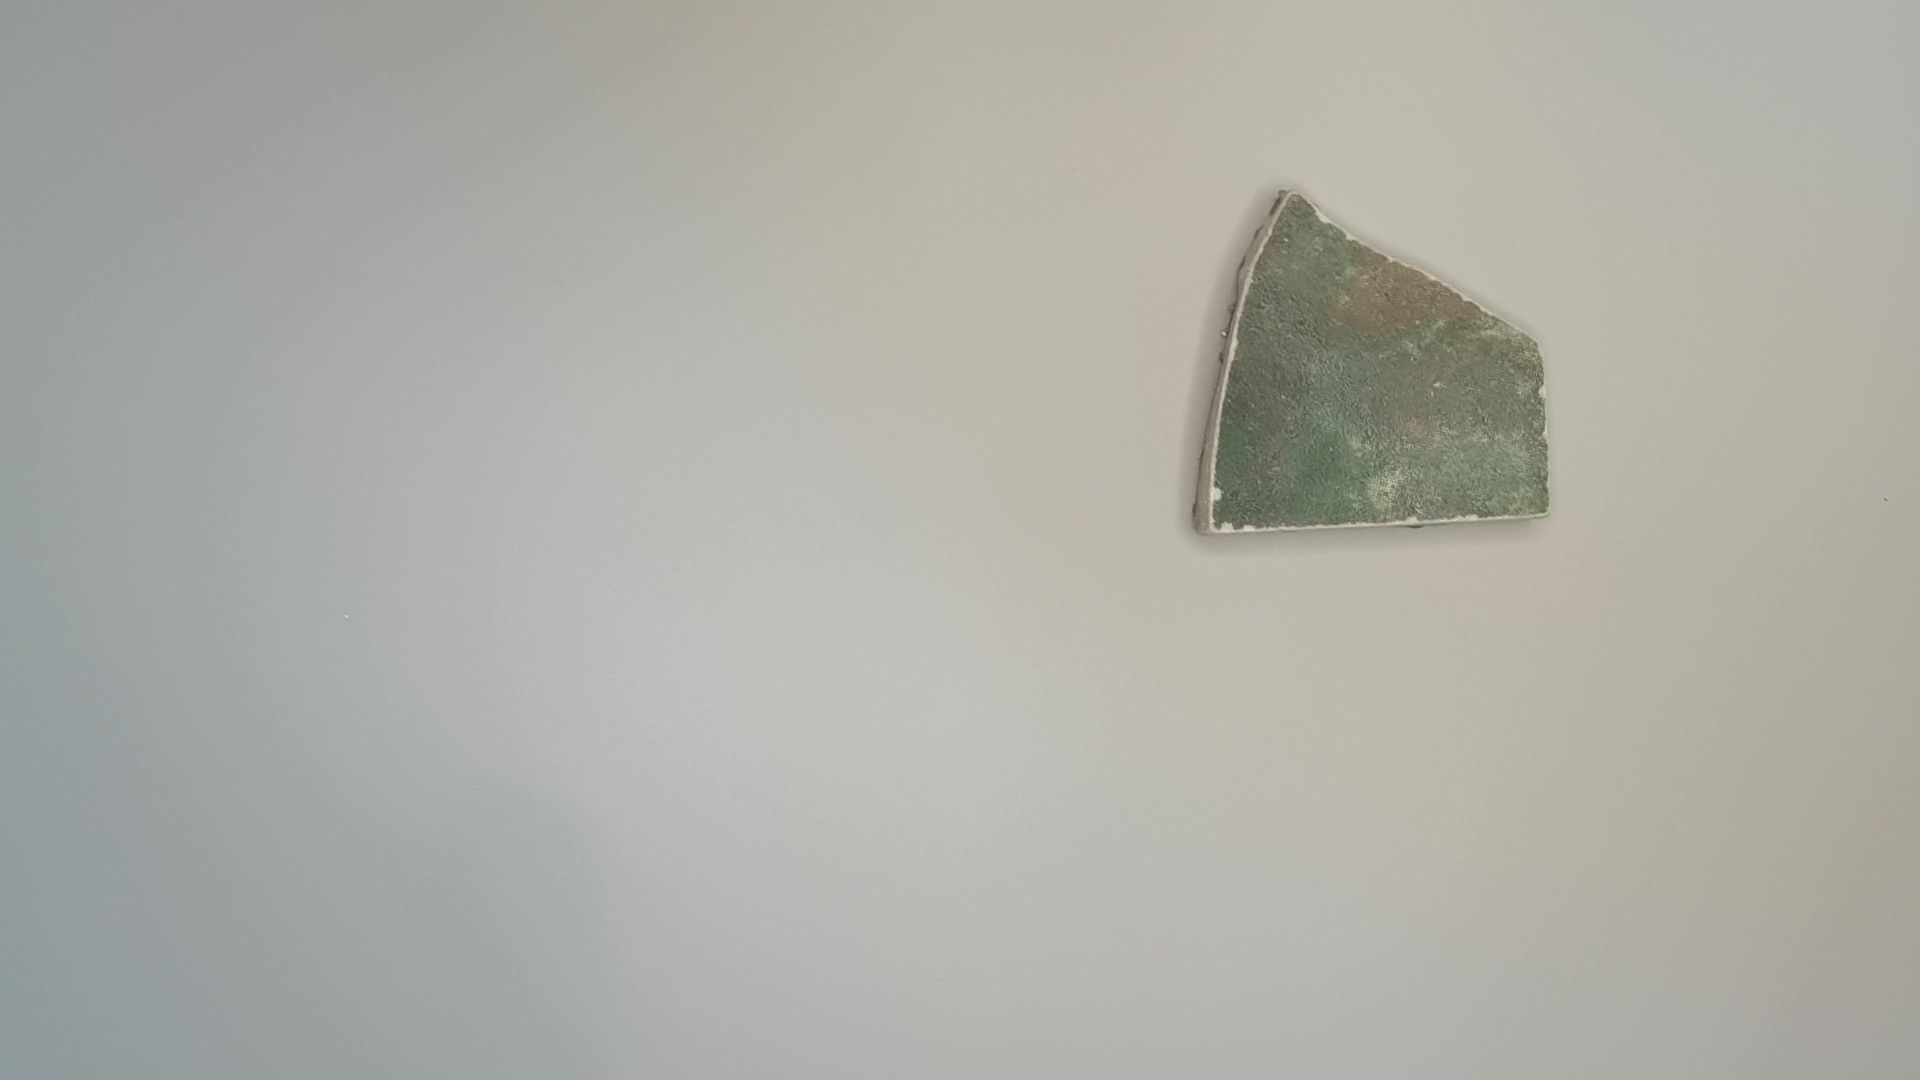ceramic: (1182, 183, 1560, 527)
